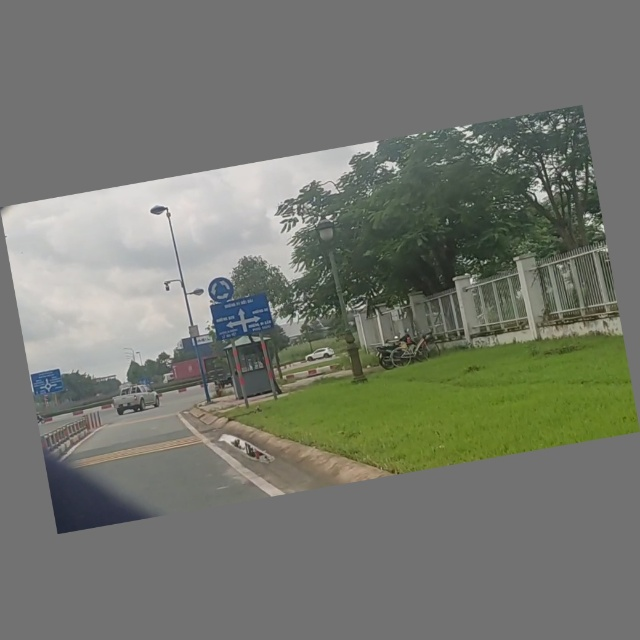R.303: (205, 275, 236, 306)
